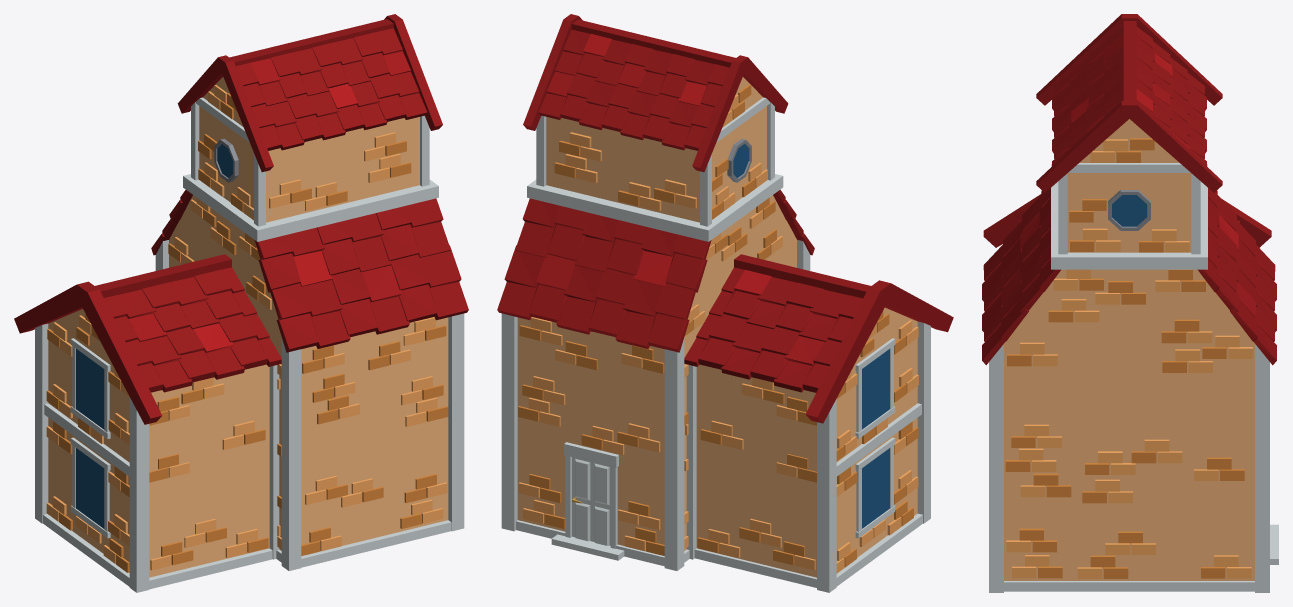
Rendered from SM_House_11.FBX.
The picture shows the model from 3 angles, left to right: view 1: azimuth 30°, elevation 25°; view 2: azimuth 150°, elevation 25°; view 3: azimuth 270°, elevation 25°; orthographic projection. The views are drawn at different scales.
Visible parts, largest first — view 1: SM_House_11; view 2: SM_House_11; view 3: SM_House_11.
Boxes of the visible parts, bbox=[...] form: SM_House_11: bbox=[14, 14, 468, 592]; SM_House_11: bbox=[497, 14, 953, 592]; SM_House_11: bbox=[982, 14, 1278, 592].
Size of what is drawn, in the model's own units: 822 by 625 by 1134.
